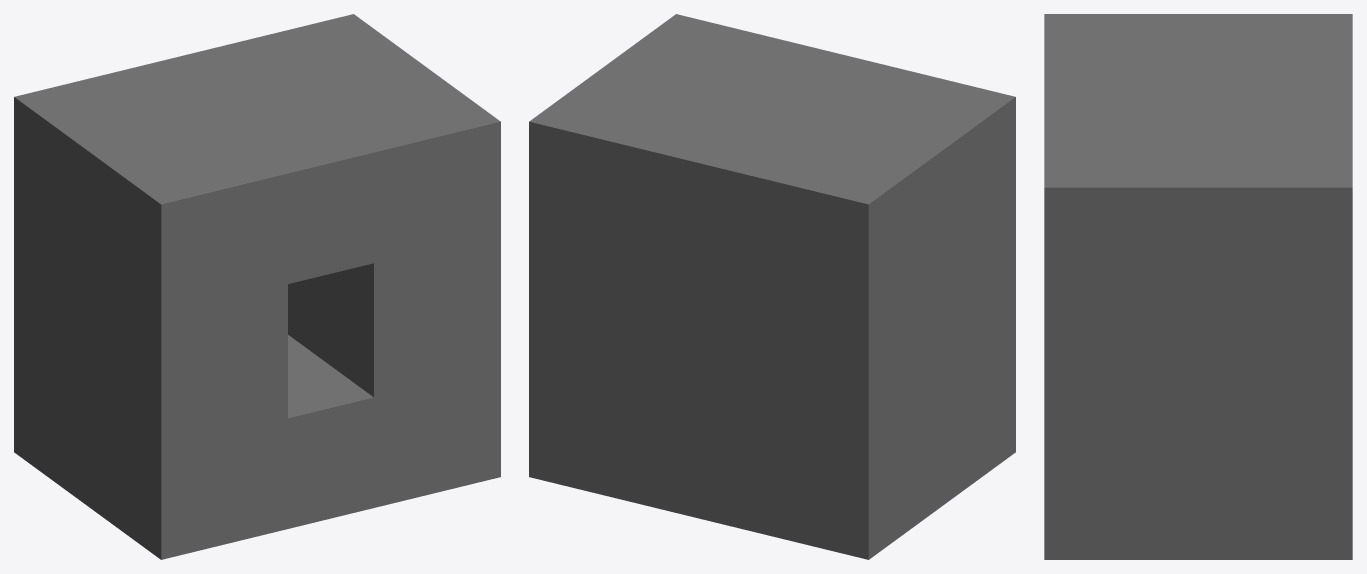
The model's file is hole.obj.
3 views of the same model, side by side, from view 1: azimuth 30°, elevation 25°; view 2: azimuth 150°, elevation 25°; view 3: azimuth 270°, elevation 25° (orthographic). The views are drawn at different scales.
Visible parts, largest first — view 1: hole; view 2: hole; view 3: hole.
Part boxes in pixels (box(x1,y1,x2,y2)): hole: box(14, 14, 500, 559); hole: box(529, 14, 1015, 559); hole: box(1044, 14, 1352, 559).
Size of the model in its own units: 0.08 by 0.08 by 0.06.
1 material, 1 textured.
